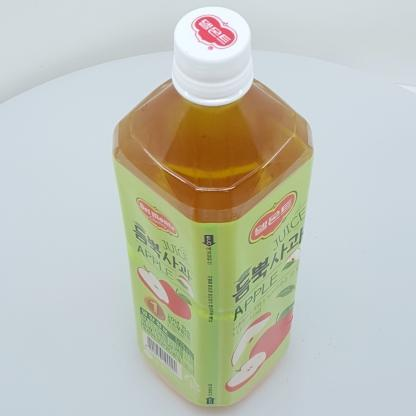----------1L: (112, 7, 313, 407)
